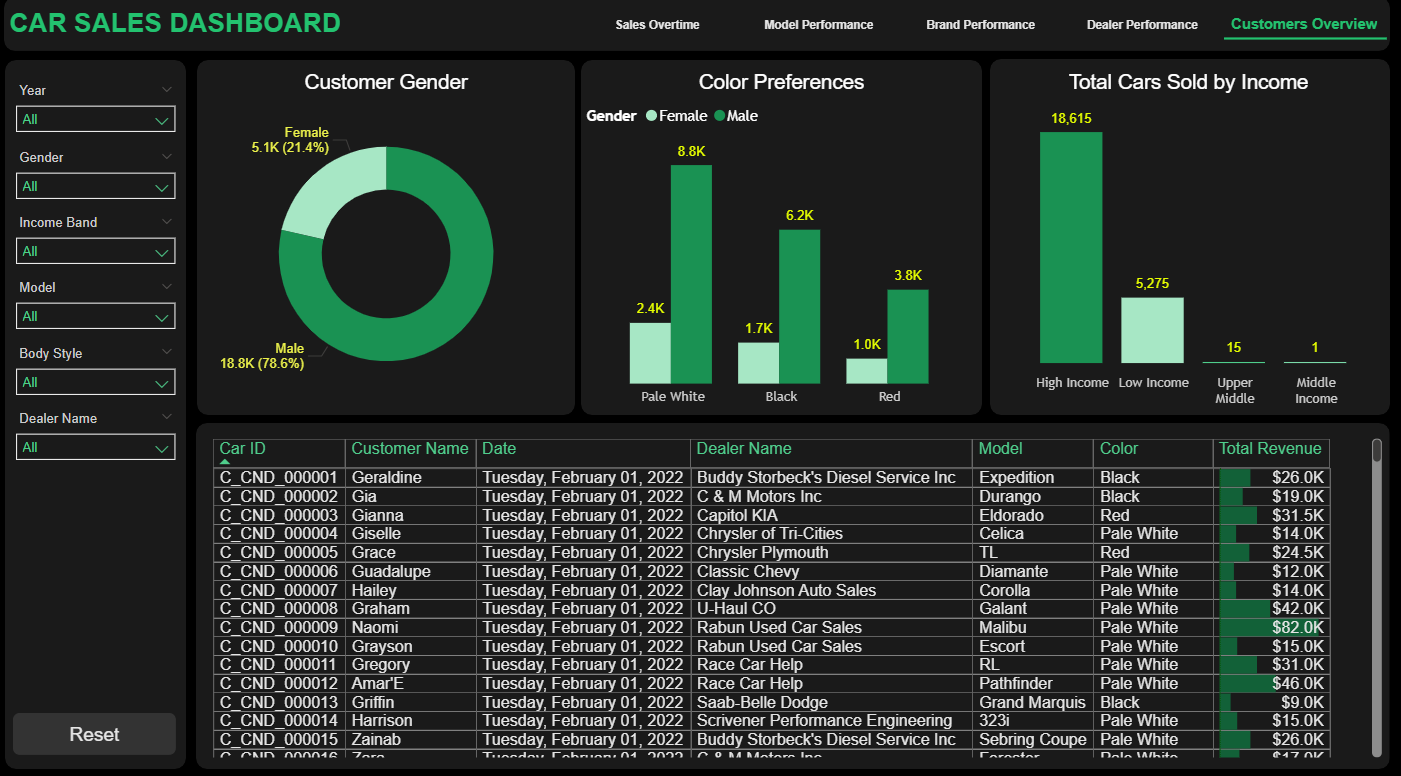

The dashboard page shown, as its layout file describes it:
{"tool":"powerbi","page":{"name":"Customers Overview","canvas":[1280,720],"ordinal":4},"visuals":[{"type":"shape","box":[8.2,179.1,164.5,528.2],"z":0},{"type":"shape","box":[904.5,62.7,363.6,323.6],"z":1000},{"type":"shape","box":[532.7,63.6,364.5,322.7],"z":2000},{"type":"shape","box":[183.6,63.6,343.6,322.7],"z":3000},{"type":"shape","box":[182.7,393.6,1085.5,314.5],"z":4000},{"type":"tableEx","fields":{"Values":["Sales.Car_id","Customer.Customer Name","Sales.Date","Sales.Dealer_Name","Car Model.Model","Car Model.Color","Measrure.Total Revenue"]},"box":[191.8,402.7,1073.6,300],"z":5000},{"type":"slicer","fields":{"Values":["DateTable.Year"]},"box":[18.2,199.1,146.4,60.9],"z":6000},{"type":"slicer","fields":{"Values":["Car Model.Model"]},"box":[16.4,413.6,148.2,60],"z":7000},{"type":"slicer","fields":{"Values":["Car Model.Body Style"]},"box":[16.5,484.4,147.8,59.3],"z":8000},{"type":"slicer","fields":{"Values":["Dealer.Dealer_Name"]},"box":[16.4,559.1,148.2,60.9],"z":9000},{"type":"pieChart","title":"Customer Gender","fields":{"Y":["CountNonNull(Customer.Customer Name)"],"Category":["Customer.Gender"]},"box":[183.6,72.5,343.9,313.4],"z":10000},{"type":"clusteredColumnChart","title":" Color Preferences","fields":{"Y":["Measrure.Total Cars Sold"],"Series":["Customer.Gender"],"Category":["Car Model.Color"]},"box":[532.8,72.5,364.5,313.4],"z":11000},{"type":"columnChart","title":"Total Cars Sold by Income","fields":{"Y":["Car Sales Datasets.Total Cars Sold"],"Category":["Customer.Income Band"]},"box":[904.5,72.5,360.9,313.4],"z":12000},{"type":"slicer","fields":{"Values":["Customer.Income Band"]},"box":[18.2,343.6,146.4,59.1],"z":13000},{"type":"slicer","fields":{"Values":["Customer.Gender"]},"box":[18.2,273.6,146.4,58.2],"z":14000},{"type":"shape","box":[182.7,6.4,1085.5,49.1],"z":15000},{"type":"textbox","box":[564.5,10.9,320.9,39.1],"z":16000},{"type":"actionButton","box":[16.4,657.3,148.2,38.2],"z":17000},{"type":"shape","box":[8.2,6.4,164.5,161.8],"z":18000},{"type":"pageNavigator","box":[16.4,41.8,148.2,116.4],"z":19000},{"type":"textbox","box":[18.2,10.9,91.8,29.1],"z":20000}]}

Visuals, with their boxes in screenshot pixels (x1, y1, x2, y2), scaled from the page's 1280x720 canvas onto the 1401x776 screenshot:
shape: x1=9 y1=193 x2=189 y2=762
shape: x1=990 y1=68 x2=1388 y2=416
shape: x1=583 y1=69 x2=982 y2=416
shape: x1=201 y1=69 x2=577 y2=416
shape: x1=200 y1=424 x2=1388 y2=763
tableEx - Sales.Car_id x Customer.Customer Name: x1=210 y1=434 x2=1385 y2=757
slicer - DateTable.Year: x1=20 y1=215 x2=180 y2=280
slicer - Car Model.Model: x1=18 y1=446 x2=180 y2=510
slicer - Car Model.Body Style: x1=18 y1=522 x2=180 y2=586
slicer - Dealer.Dealer_Name: x1=18 y1=603 x2=180 y2=668
"Customer Gender" pieChart: x1=201 y1=78 x2=577 y2=416
" Color Preferences" clusteredColumnChart: x1=583 y1=78 x2=982 y2=416
"Total Cars Sold by Income" columnChart: x1=990 y1=78 x2=1385 y2=416
slicer - Customer.Income Band: x1=20 y1=370 x2=180 y2=434
slicer - Customer.Gender: x1=20 y1=295 x2=180 y2=358
shape: x1=200 y1=7 x2=1388 y2=60
textbox: x1=618 y1=12 x2=969 y2=54
actionButton: x1=18 y1=708 x2=180 y2=750
shape: x1=9 y1=7 x2=189 y2=181
pageNavigator: x1=18 y1=45 x2=180 y2=171
textbox: x1=20 y1=12 x2=120 y2=43
